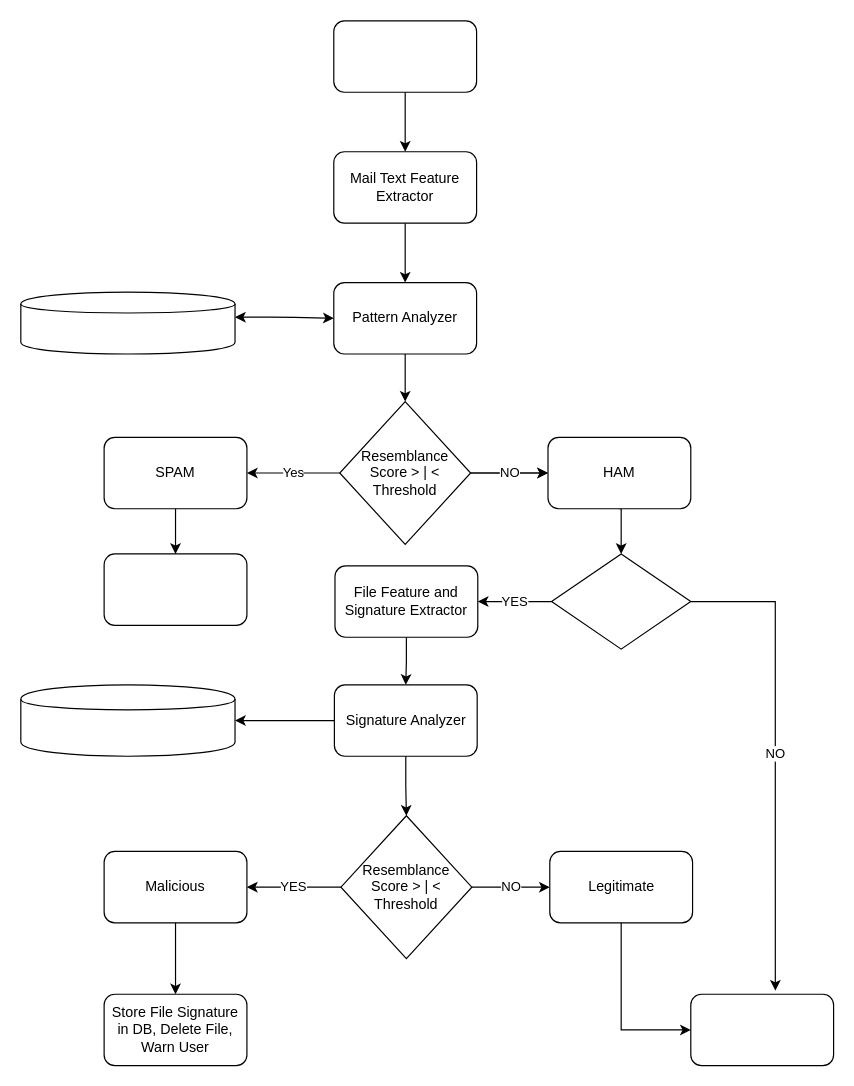
The diagram is 854 pixels wide and 1086 high, and some of its shapes have lost their labels. The shapes that lost their labels are listed below. From the top down, each one's centre as x and y in pixels, then its label:
At pixel 405 56: "Email received at mail server".
At pixel 127 322: "Spam Dataset".
At pixel 175 589: "Spam Archive Folder".
At pixel 620 601: "Has Attachment?".
At pixel 127 720: "Binary Signature Dataset".
At pixel 762 1029: "Send to User Inbox".
